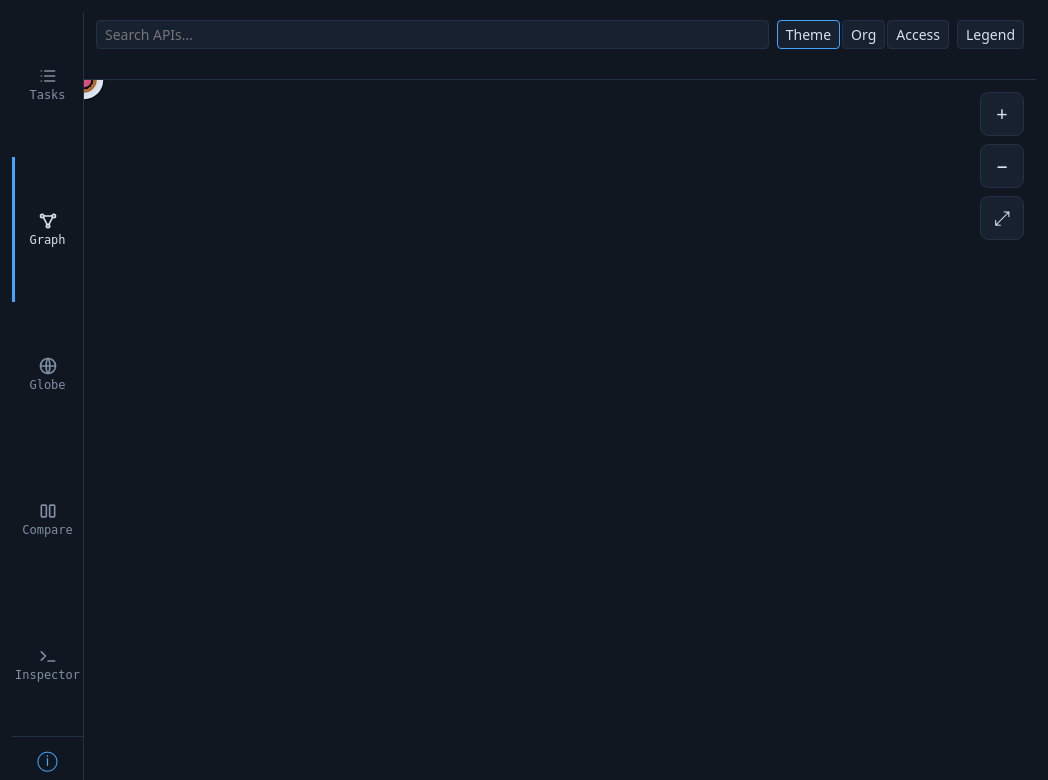
Test case: App › compact layout (a phone, #78) › shows the globe once its tab is opened
The width and height of the screenshot is (1048, 780).
Click the tab "Globe" at {"x": 48, "y": 374}, box [12,302,83,446]
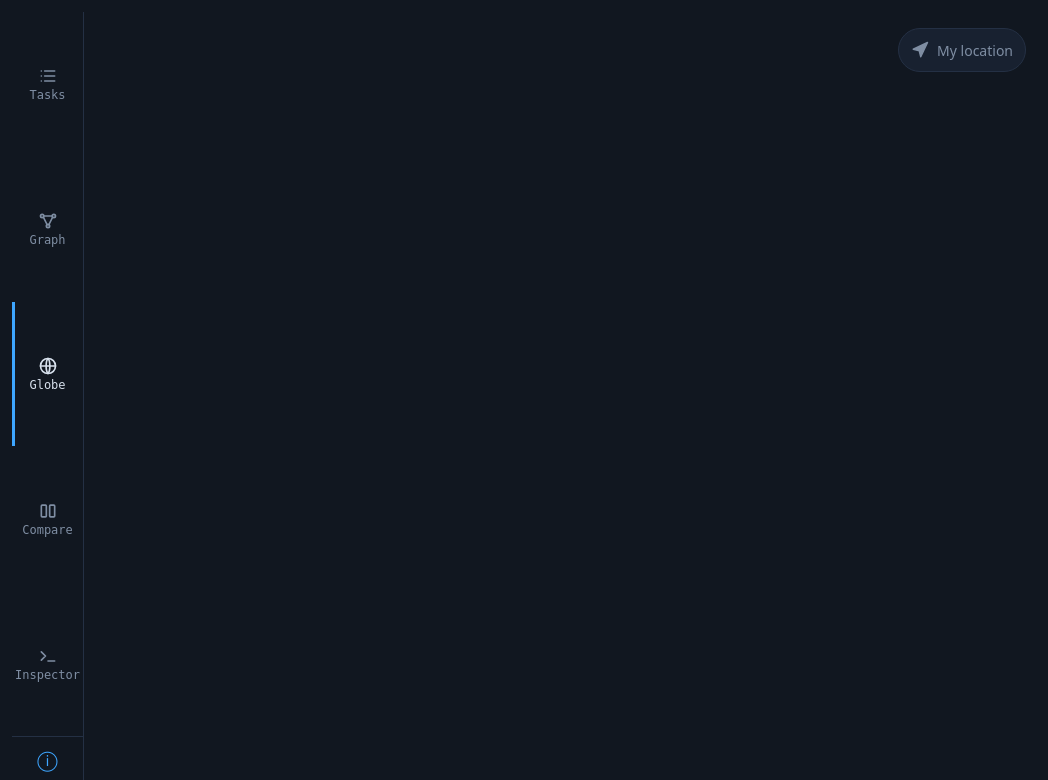
Result: the element named "Globe view of NOAA API coverage" is shown
